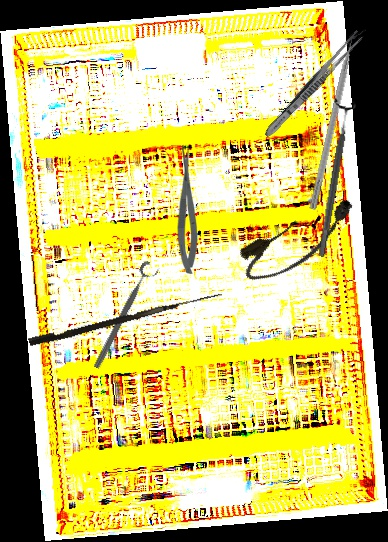Cannula: (233, 190, 366, 291)
Chopper: (308, 25, 369, 214)
Dressing Forceps: (261, 28, 365, 141)
Fixation Ring: (90, 259, 162, 374), (309, 97, 358, 259)
Hook Surgical: (28, 283, 222, 351)
Micro Scissor: (177, 145, 198, 274)
